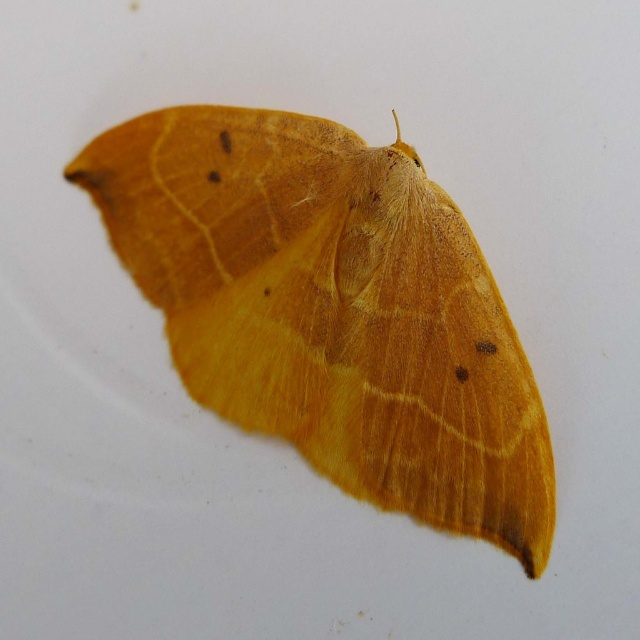Butterfly: (77, 80, 572, 574)
